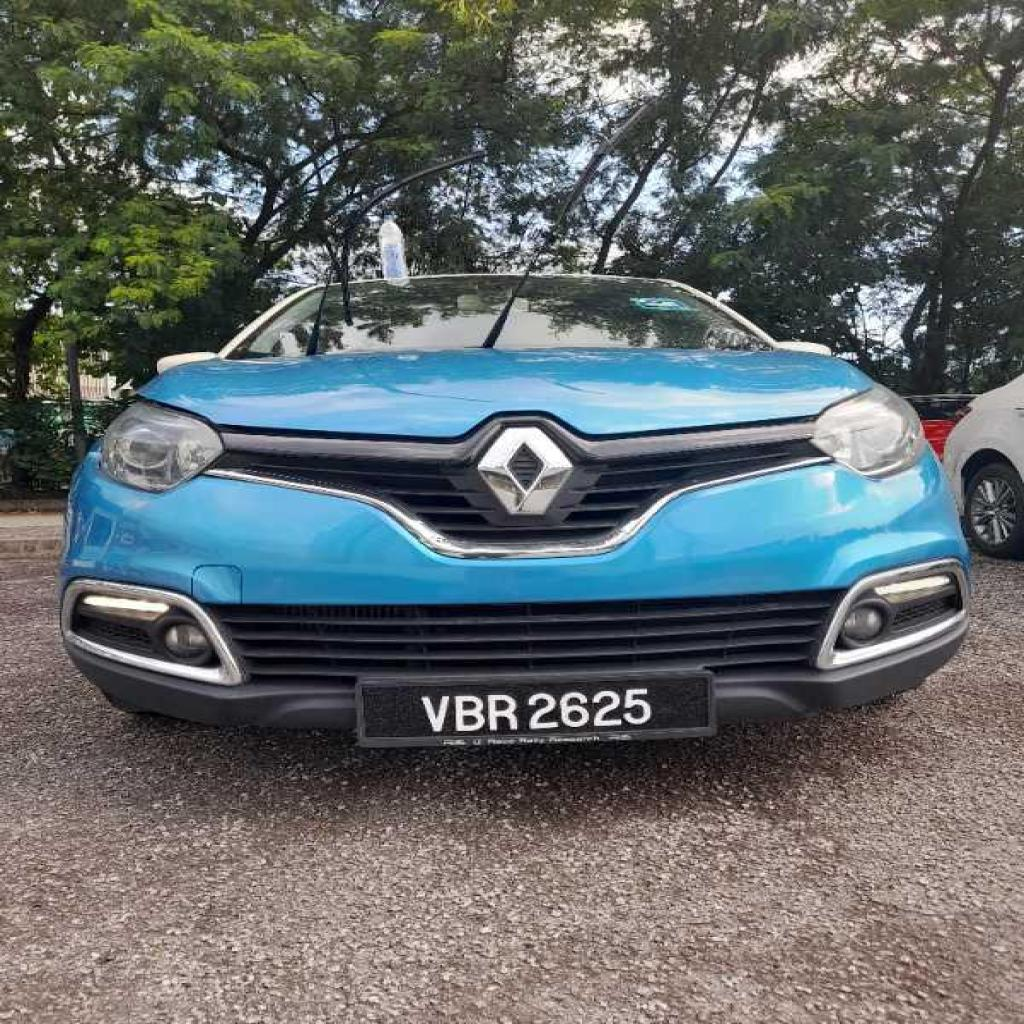car: (60, 275, 964, 742)
car plate: (355, 669, 713, 745)
